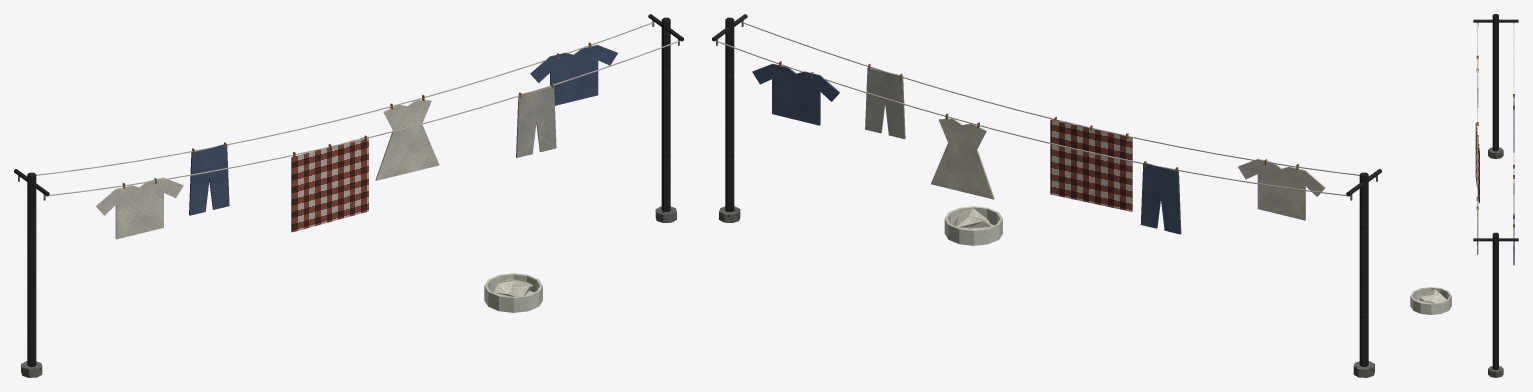
Rendered from clothesline.glb.
3 views of the same model, side by side, from view 1: azimuth 30°, elevation 25°; view 2: azimuth 150°, elevation 25°; view 3: azimuth 270°, elevation 25° (orthographic). The views are drawn at different scales.
Parts seen in each view (by area): view 1: clothesline; view 2: clothesline; view 3: clothesline.
Part boxes in pixels (left/top/right/bottom): clothesline: left=14, top=14, right=683, bottom=377; clothesline: left=712, top=14, right=1381, bottom=377; clothesline: left=1410, top=14, right=1518, bottom=377.
Size of what is drawn, in the model's own units: 8.24 by 2.4 by 1.67.
9 materials, 9 textured.
